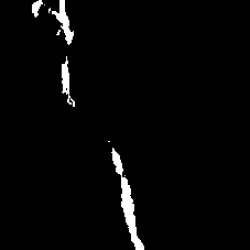crack: (112, 149, 145, 249), (48, 1, 74, 44), (61, 58, 73, 107), (32, 1, 42, 18)
